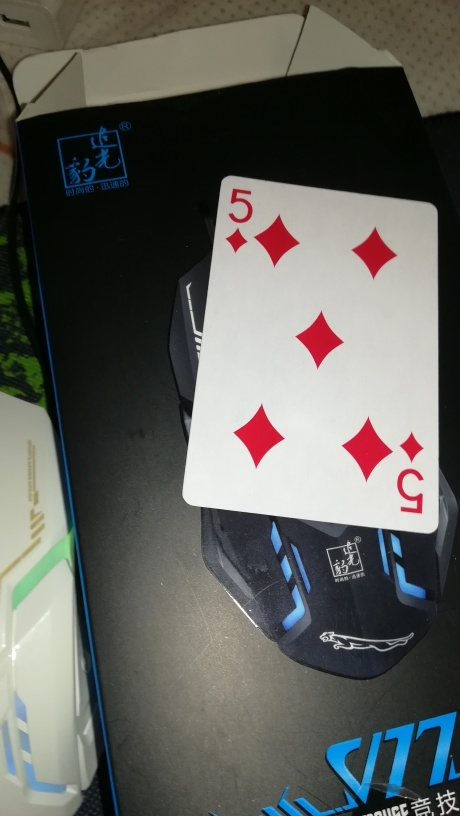fk 5: (182, 173, 440, 534)
